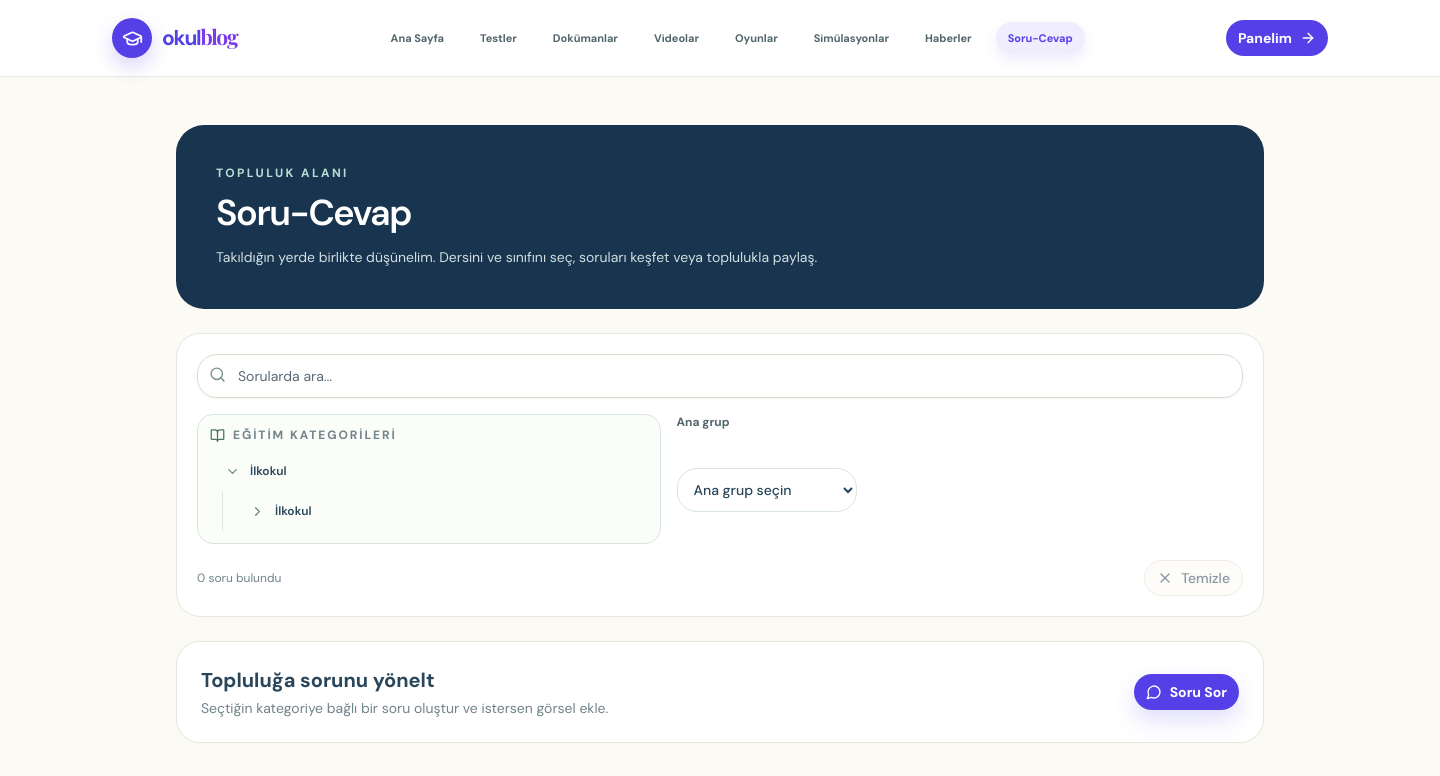
Test: Soru-Cevap sayfası › modalda 5 MB görsel sınırını ve soru sıralama seçeneklerini gösterir
The width and height of the screenshot is (1440, 776).
Click the button "Soru Sor": (1186, 692) [1134,674,1239,710]
(page scrolled)
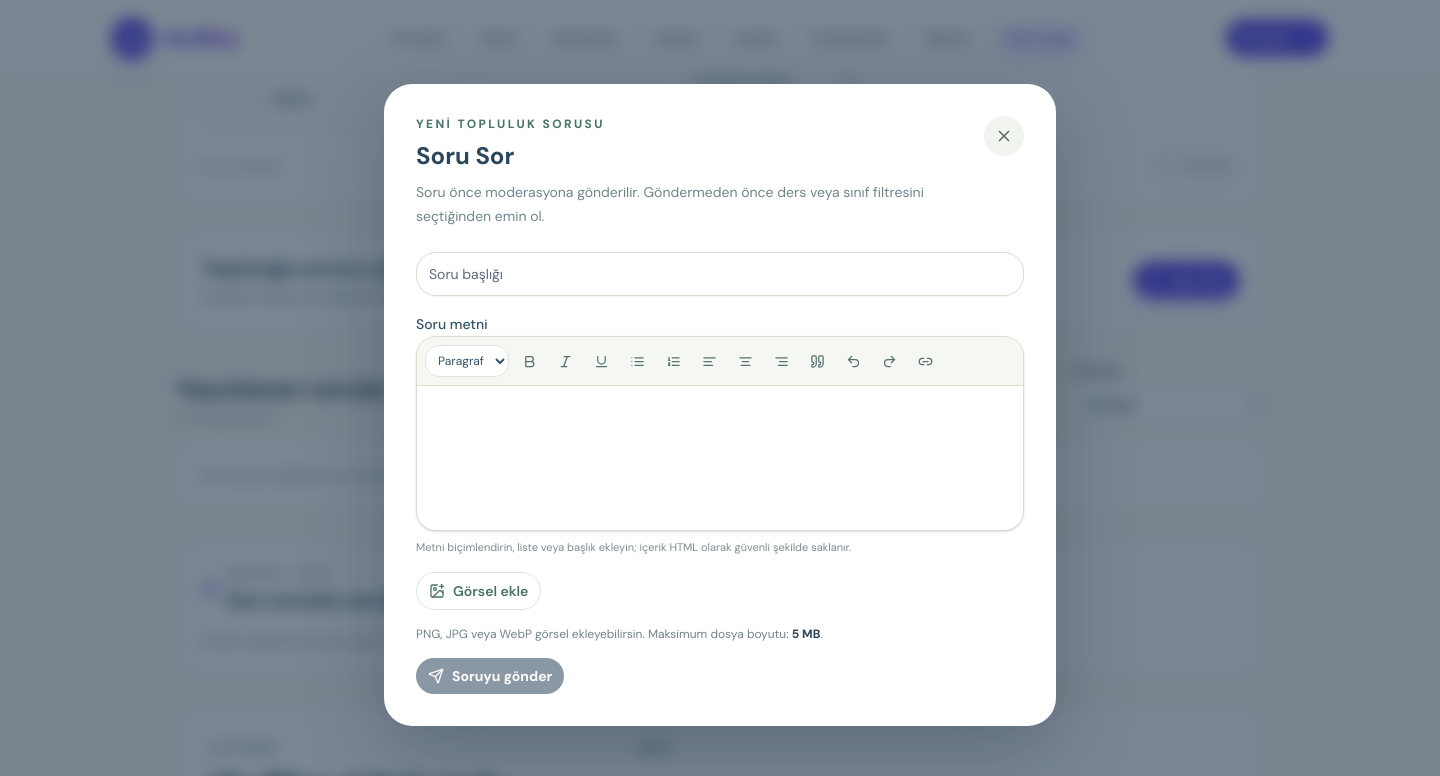
Expected: the dropdown named "Soru sıralama" shows "En Yeni", [1072,385,1264,425]
Expected: the text "5 MB" is shown, [792,626,820,642]
